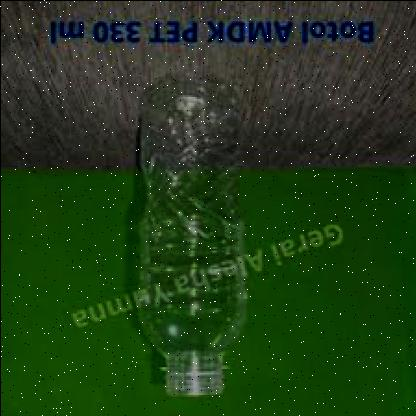Plastic Bottle: (129, 81, 249, 398)
